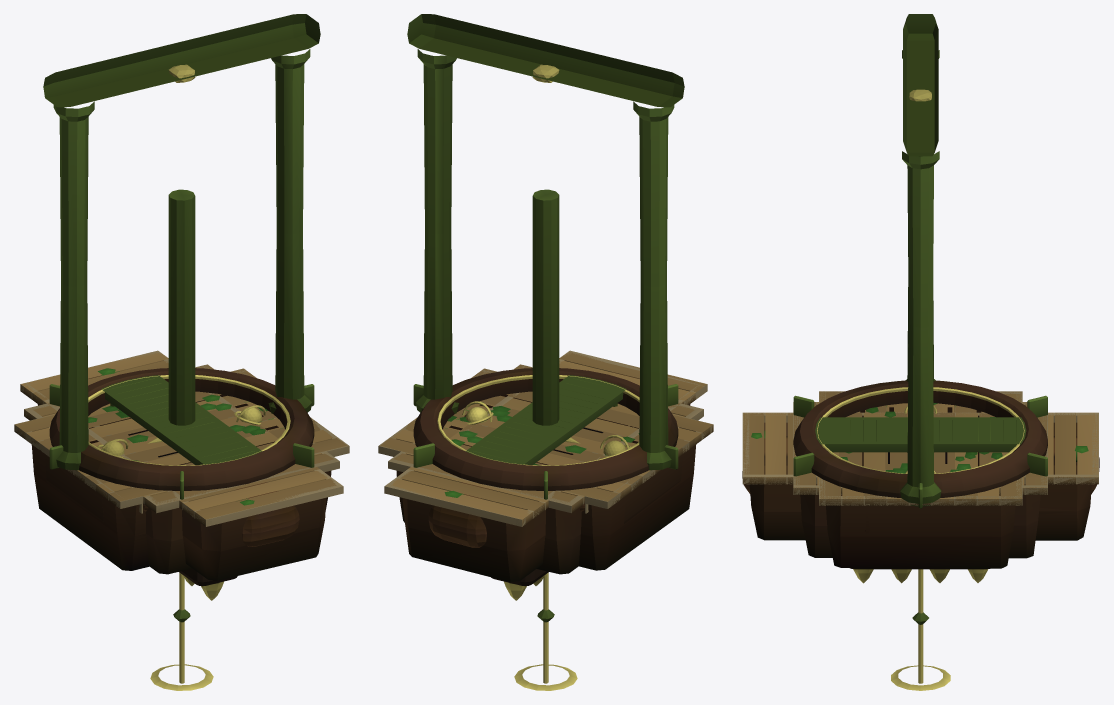
The model's file is swamp-2-CZLHvjTD.glb.
3 renders of one model, left to right at view 1: azimuth 30°, elevation 25°; view 2: azimuth 150°, elevation 25°; view 3: azimuth 270°, elevation 25°, orthographic. The views are drawn at different scales.
Parts seen in each view (by area): view 1: pressFrame_7.5x6x2.5x7#0, block_6x2x14#0, geyserVent_8#0, block_10x2x8#0, press_2x6x6#0, burner_2x1.2x8#0, block_6x2x10#0, block_8x2x10#0, block_10x2x6#0, beam_3x2x14#0, support_0_square#0, balls_7.4x1.4#0; view 2: pressFrame_7.5x6x2.5x7#0, block_6x2x14#0, geyserVent_8#0, block_10x2x8#0, press_2x6x6#0, burner_2x1.2x8#0, block_6x2x10#0, block_8x2x10#0, beam_3x2x14#0, block_10x2x6#0, support_0_square#0, balls_7.4x1.4#0; view 3: block_10x2x8#0, pressFrame_7.5x6x2.5x7#0, block_6x2x14#0, geyserVent_8#0, burner_2x1.2x8#0, block_8x2x10#0, block_6x2x10#0, support_0_square#0, press_2x6x6#0.
Boxes of the visible parts, box(x1,y1,x2,y2) form: pressFrame_7.5x6x2.5x7#0: box(43, 14, 320, 470); block_6x2x14#0: box(20, 350, 343, 580); geyserVent_8#0: box(49, 368, 314, 499); block_10x2x8#0: box(14, 368, 349, 570); press_2x6x6#0: box(168, 189, 237, 600); burner_2x1.2x8#0: box(101, 375, 262, 464); block_6x2x10#0: box(47, 391, 316, 500); block_8x2x10#0: box(24, 364, 339, 574); block_10x2x6#0: box(27, 430, 319, 522); beam_3x2x14#0: box(88, 375, 299, 546); support_0_square#0: box(150, 572, 213, 690); balls_7.4x1.4#0: box(97, 405, 265, 457); pressFrame_7.5x6x2.5x7#0: box(407, 14, 684, 470); block_6x2x14#0: box(384, 350, 707, 582); geyserVent_8#0: box(413, 368, 678, 499); block_10x2x8#0: box(378, 368, 713, 570); press_2x6x6#0: box(491, 189, 559, 600); burner_2x1.2x8#0: box(465, 375, 626, 464); block_6x2x10#0: box(411, 391, 680, 500); block_8x2x10#0: box(388, 364, 703, 574); beam_3x2x14#0: box(428, 372, 639, 547); block_10x2x6#0: box(408, 430, 697, 523); support_0_square#0: box(514, 572, 577, 690); balls_7.4x1.4#0: box(462, 401, 630, 457); block_10x2x8#0: box(819, 391, 1022, 568); pressFrame_7.5x6x2.5x7#0: box(900, 14, 941, 503); block_6x2x14#0: box(742, 412, 1098, 540); geyserVent_8#0: box(793, 380, 1047, 508); burner_2x1.2x8#0: box(815, 417, 1026, 452); block_8x2x10#0: box(793, 402, 1047, 558); block_6x2x10#0: box(793, 412, 1047, 484); support_0_square#0: box(891, 569, 950, 690); press_2x6x6#0: box(850, 452, 989, 583).
Size of the model in its own units: 11.5 by 26.4 by 14.05.
